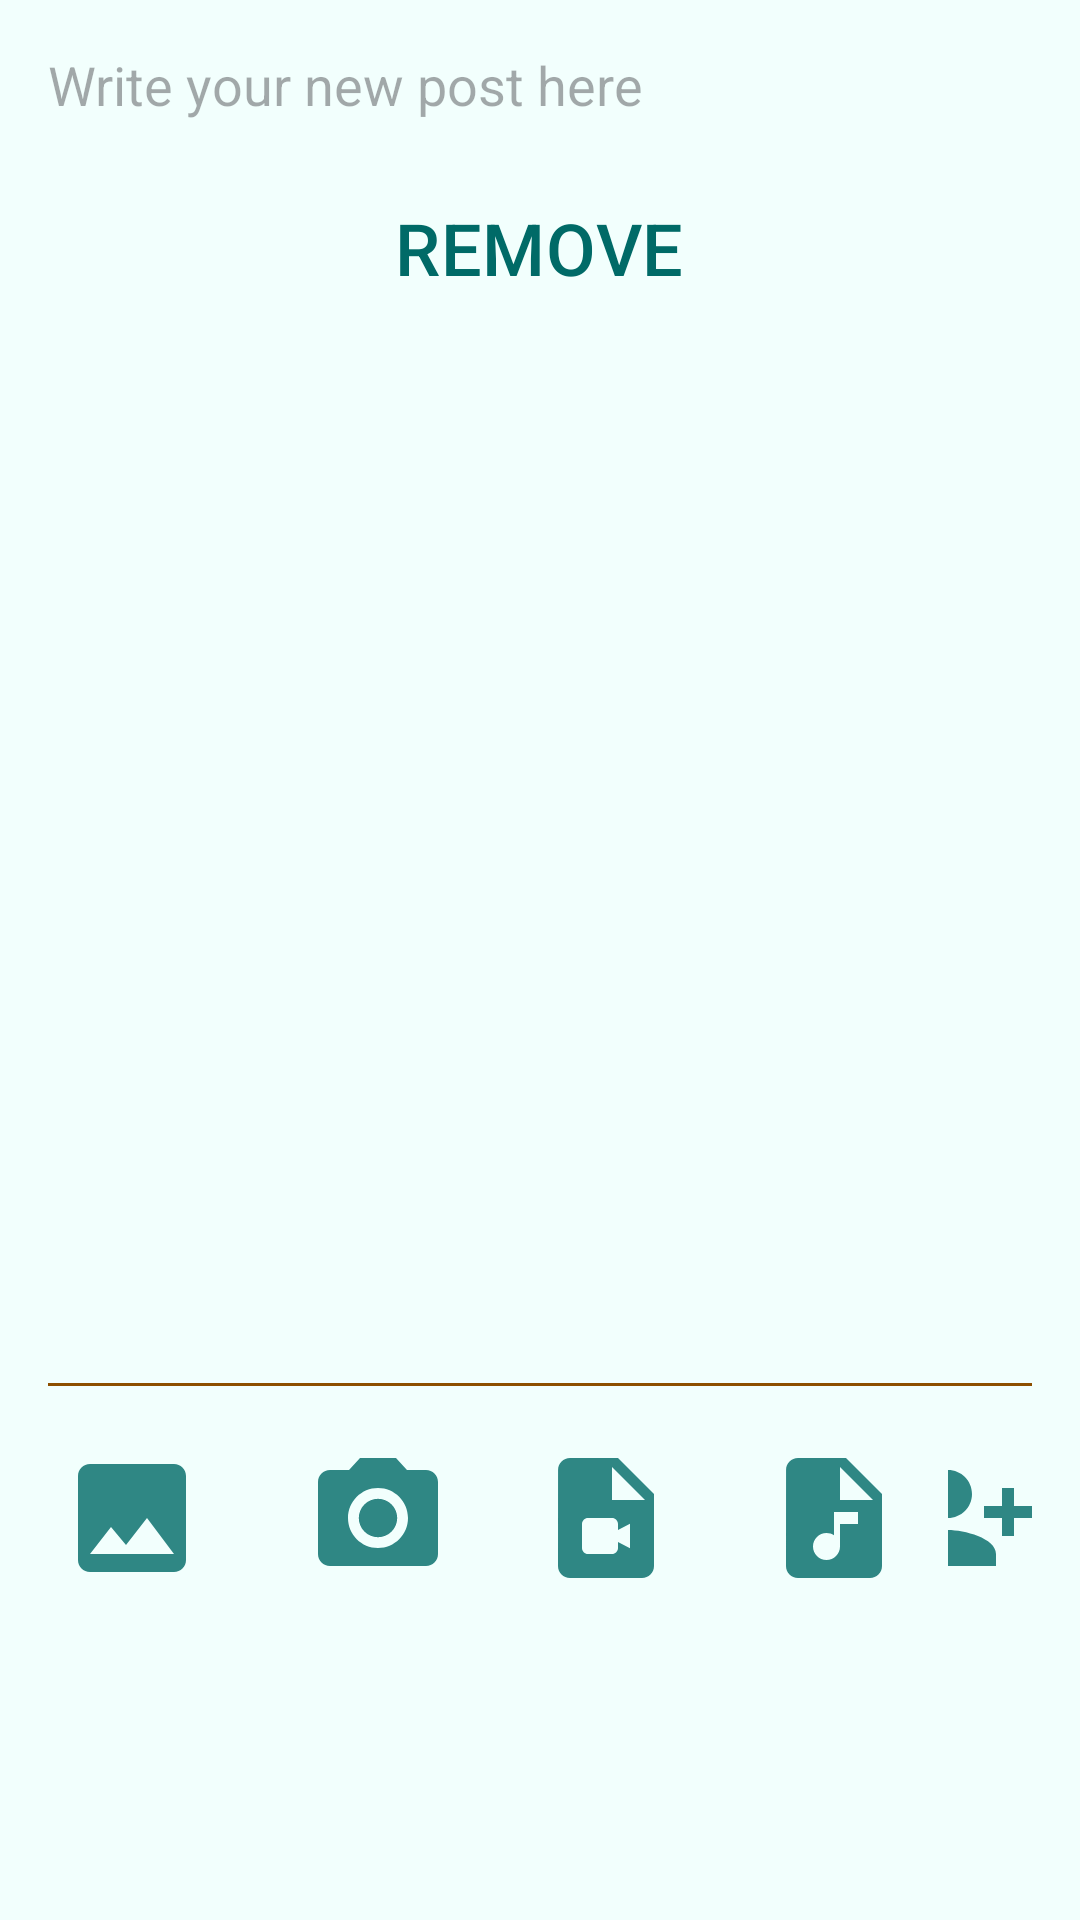

Point at icon controls on the screen. Image size 1080 × 1920, points as (x,y).
Add audio: (834,1518)
Add video: (606,1518)
Select photo please: (132,1518)
Take photo please: (378,1512)
